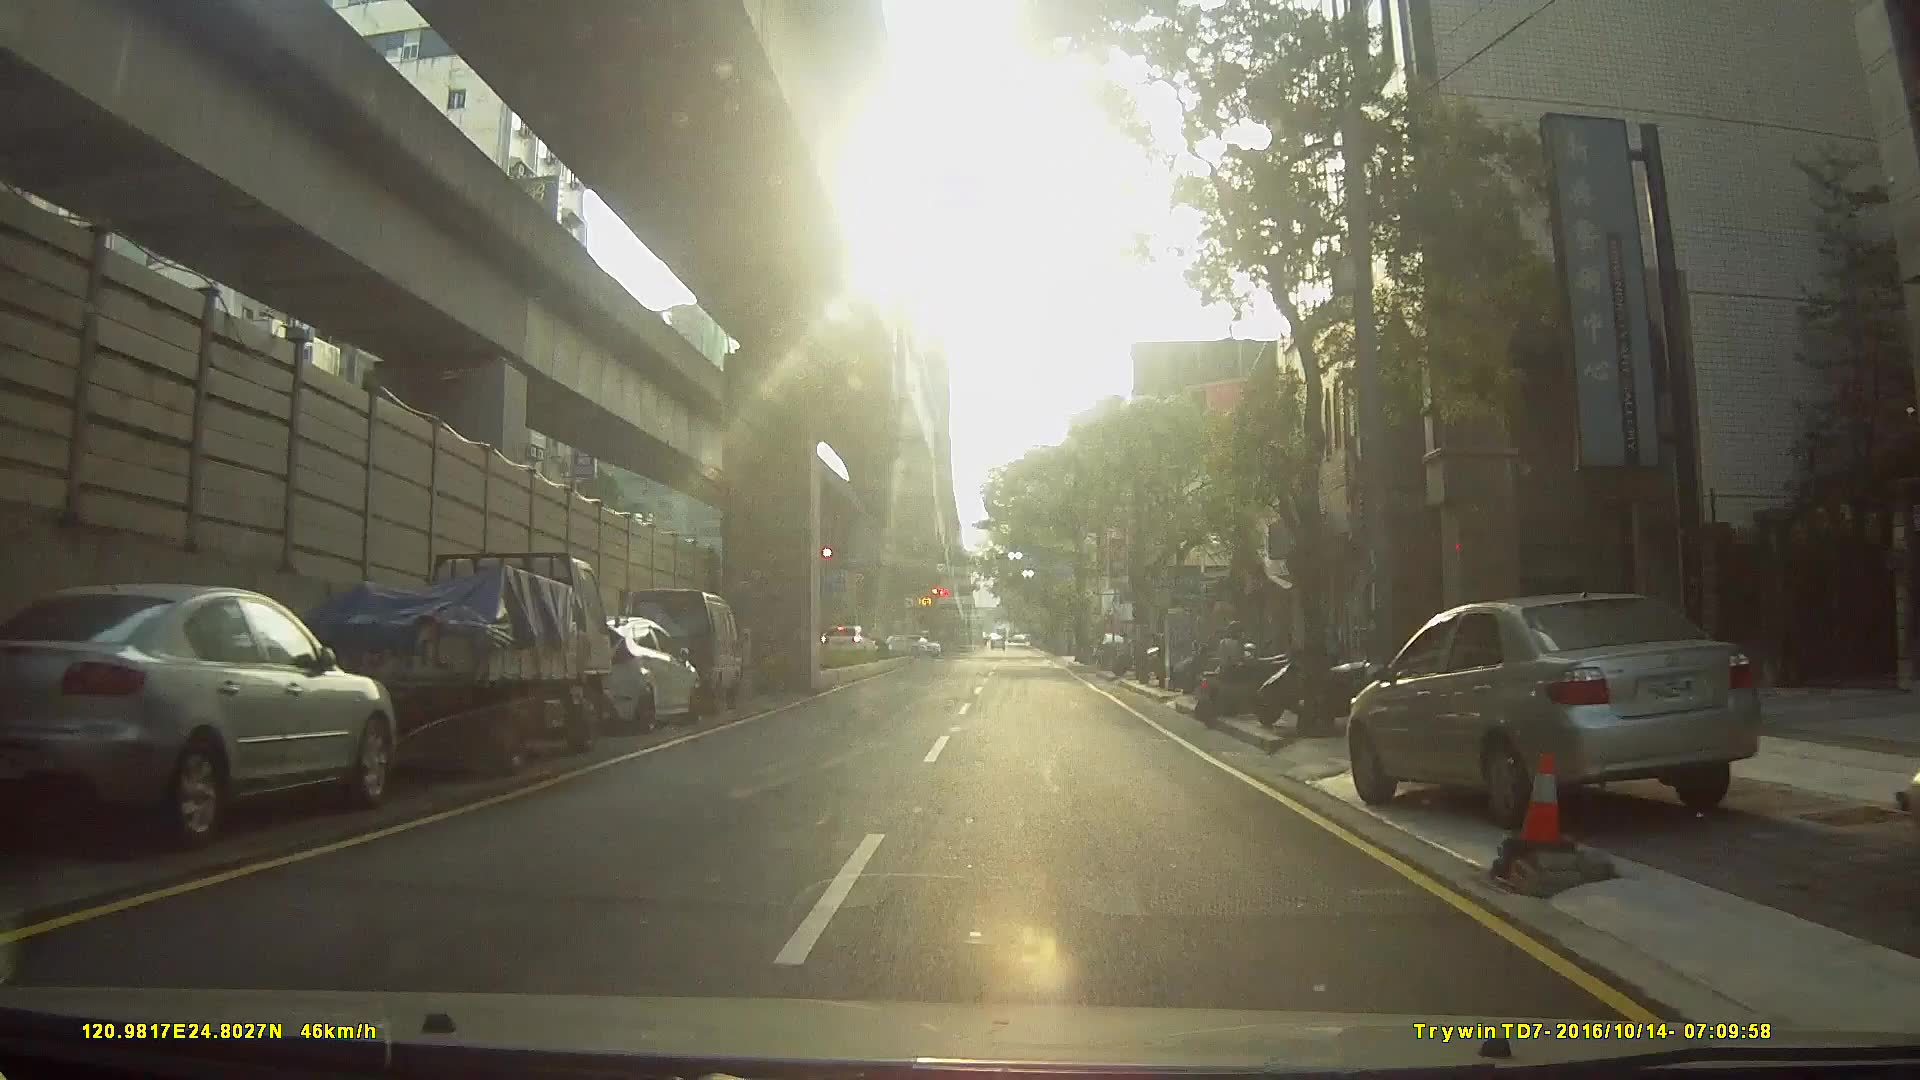rider: (1188, 613, 1280, 728)
vehicle: (6, 566, 414, 858), (1317, 579, 1804, 817), (258, 541, 638, 772), (532, 608, 697, 734), (616, 583, 743, 711), (819, 622, 876, 658)
